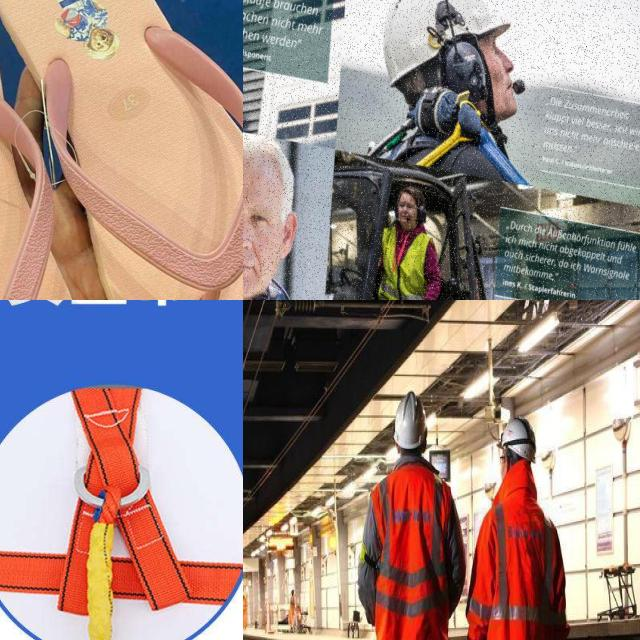No_Ear-Protection: (279, 214, 300, 262)
No_Glasses: (243, 199, 278, 229), (478, 38, 505, 58), (399, 200, 416, 210)
Sandals: (0, 0, 243, 300)
face_nomask: (243, 227, 286, 300), (488, 54, 518, 125), (399, 208, 417, 230)
head_helmet: (384, 0, 510, 84), (392, 390, 427, 452), (499, 414, 537, 462)
head_nohelmet: (243, 133, 294, 216), (399, 186, 425, 206)
person: (356, 391, 468, 640), (466, 414, 566, 640), (243, 590, 247, 633)
vest: (371, 466, 463, 627), (466, 497, 568, 640)
